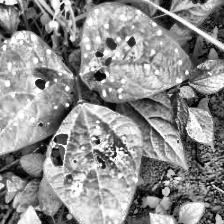Bean Rust: (73, 3, 202, 101), (43, 101, 142, 224), (0, 32, 74, 167)
